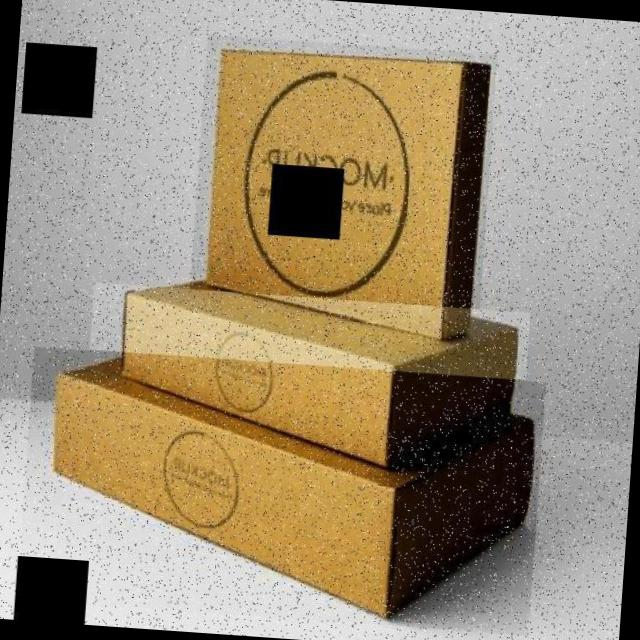box: (17, 346, 546, 635), (187, 34, 498, 348), (81, 282, 530, 485)
